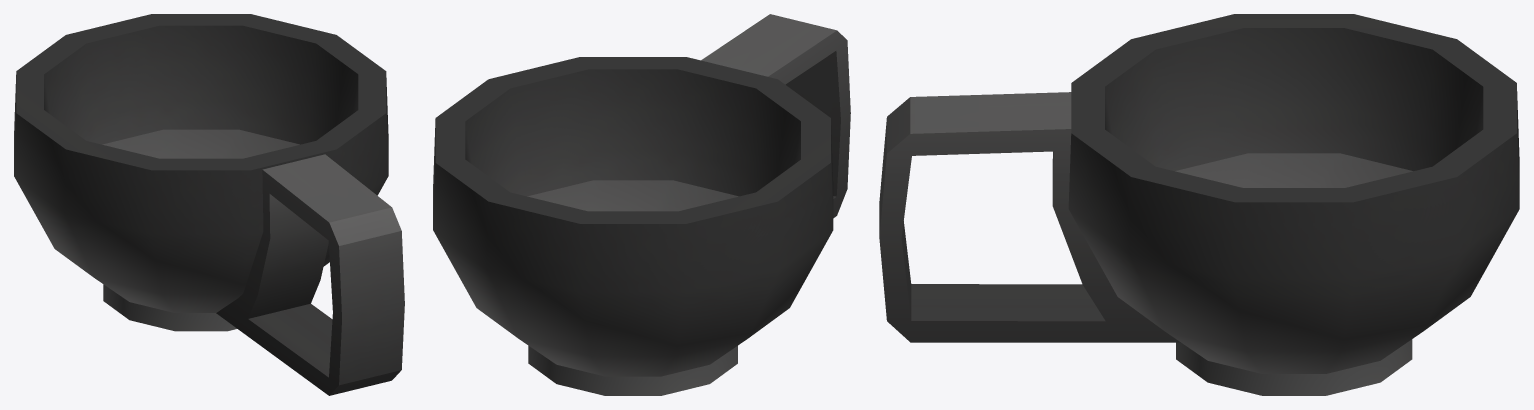
The model's file is CoffeeMakerFilter.fbx.
3 renders of one model, left to right at view 1: azimuth 30°, elevation 25°; view 2: azimuth 150°, elevation 25°; view 3: azimuth 270°, elevation 25°, orthographic. The views are drawn at different scales.
Parts seen in each view (by area): view 1: CoffeeMakerFilter; view 2: CoffeeMakerFilter; view 3: CoffeeMakerFilter.
Boxes of the visible parts, left/top/right/bottom form: CoffeeMakerFilter: left=14, top=14, right=404, bottom=395; CoffeeMakerFilter: left=433, top=14, right=850, bottom=395; CoffeeMakerFilter: left=879, top=14, right=1519, bottom=395.
Bounding box in the file's own units: 16.67 × 9.71 × 23.68.
